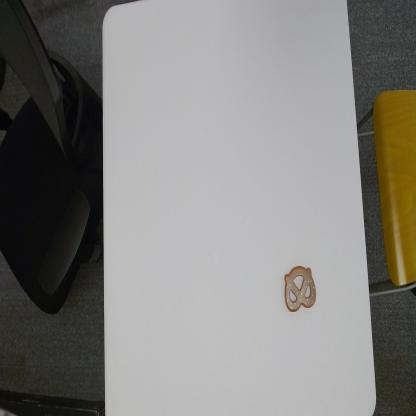Pretzel: (283, 262, 318, 314)
